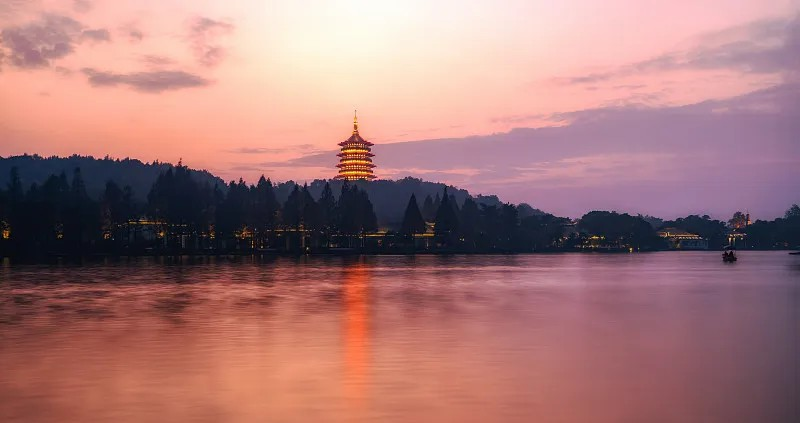Leifeng: (337, 110, 376, 182)
